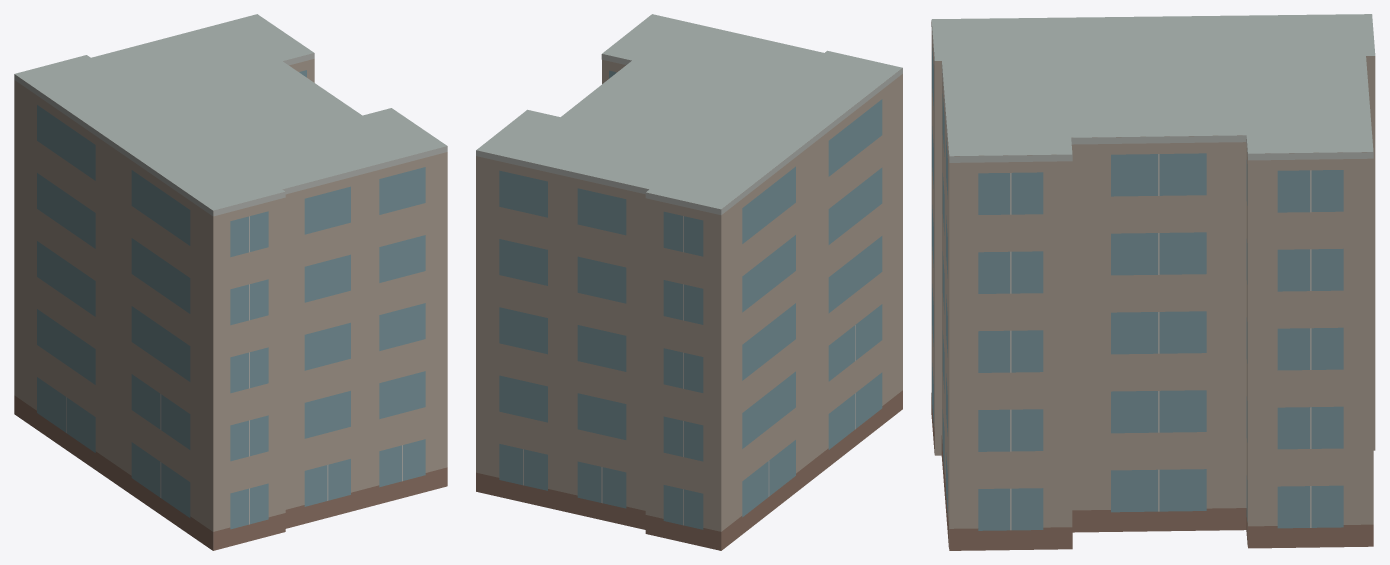
Rendered from survey-upis-32456937.glb.
3 renders of one model, left to right at view 1: azimuth 30°, elevation 25°; view 2: azimuth 150°, elevation 25°; view 3: azimuth 270°, elevation 25°, orthographic. The views are drawn at different scales.
Parts seen in each view (by area): view 1: survey-upis-32456937.tmp; view 2: survey-upis-32456937.tmp; view 3: survey-upis-32456937.tmp.
Boxes of the visible parts, bbox=[...] form: survey-upis-32456937.tmp: bbox=[14, 14, 447, 550]; survey-upis-32456937.tmp: bbox=[476, 14, 902, 550]; survey-upis-32456937.tmp: bbox=[931, 14, 1375, 550].
Size of the model in its own units: 10.98 by 14.2 by 14.48.
